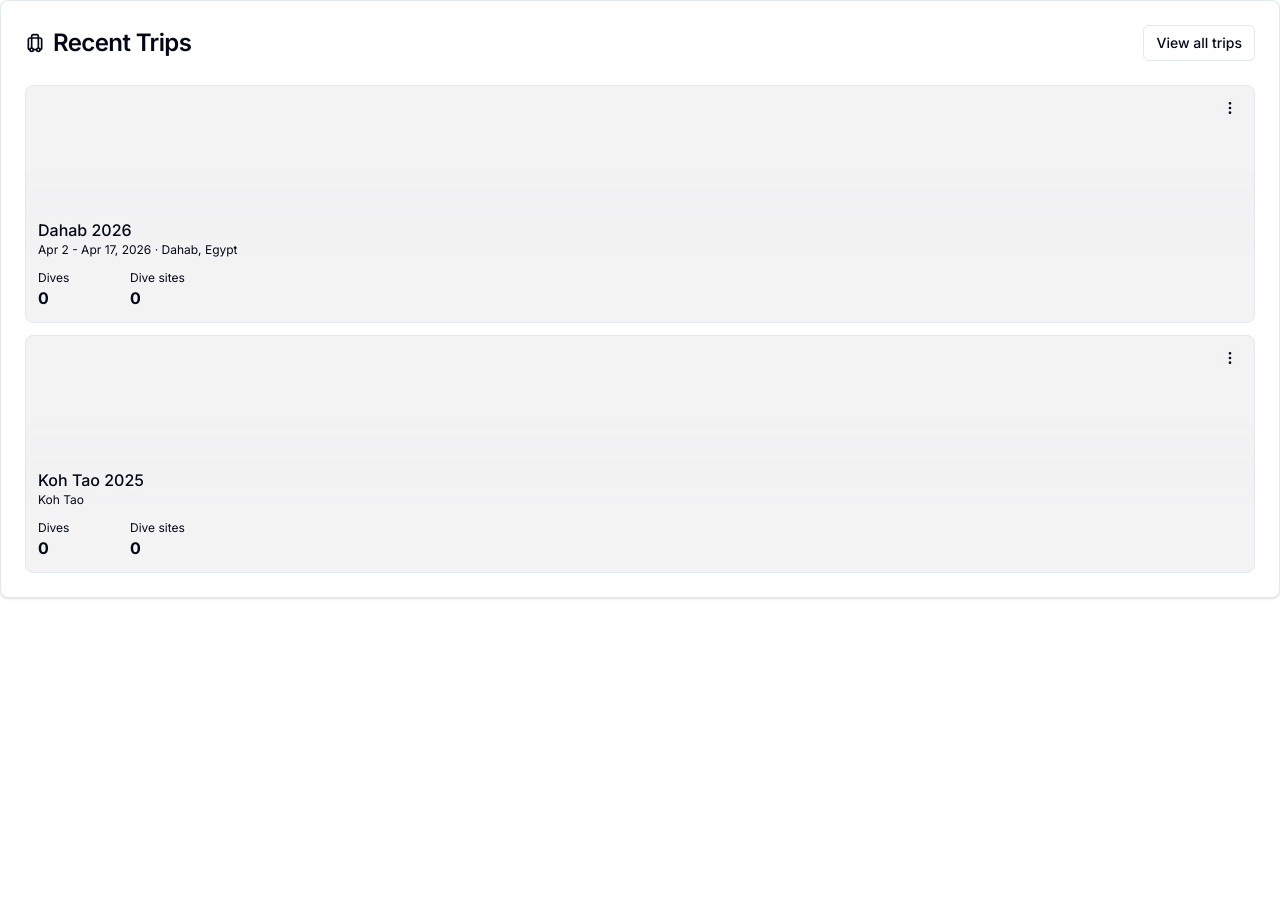
RecentTripsCard › reads the list again after a delete
Expected: the link "Dahab 2026" is shown, x1=38 y1=220 x2=132 y2=240
What coordinates should you click on to do the following:
click the button named "Actions for Koh Tao 2025"
I would click on:
 (1230, 358)
Its box is x1=1210 y1=340 x2=1250 y2=376.
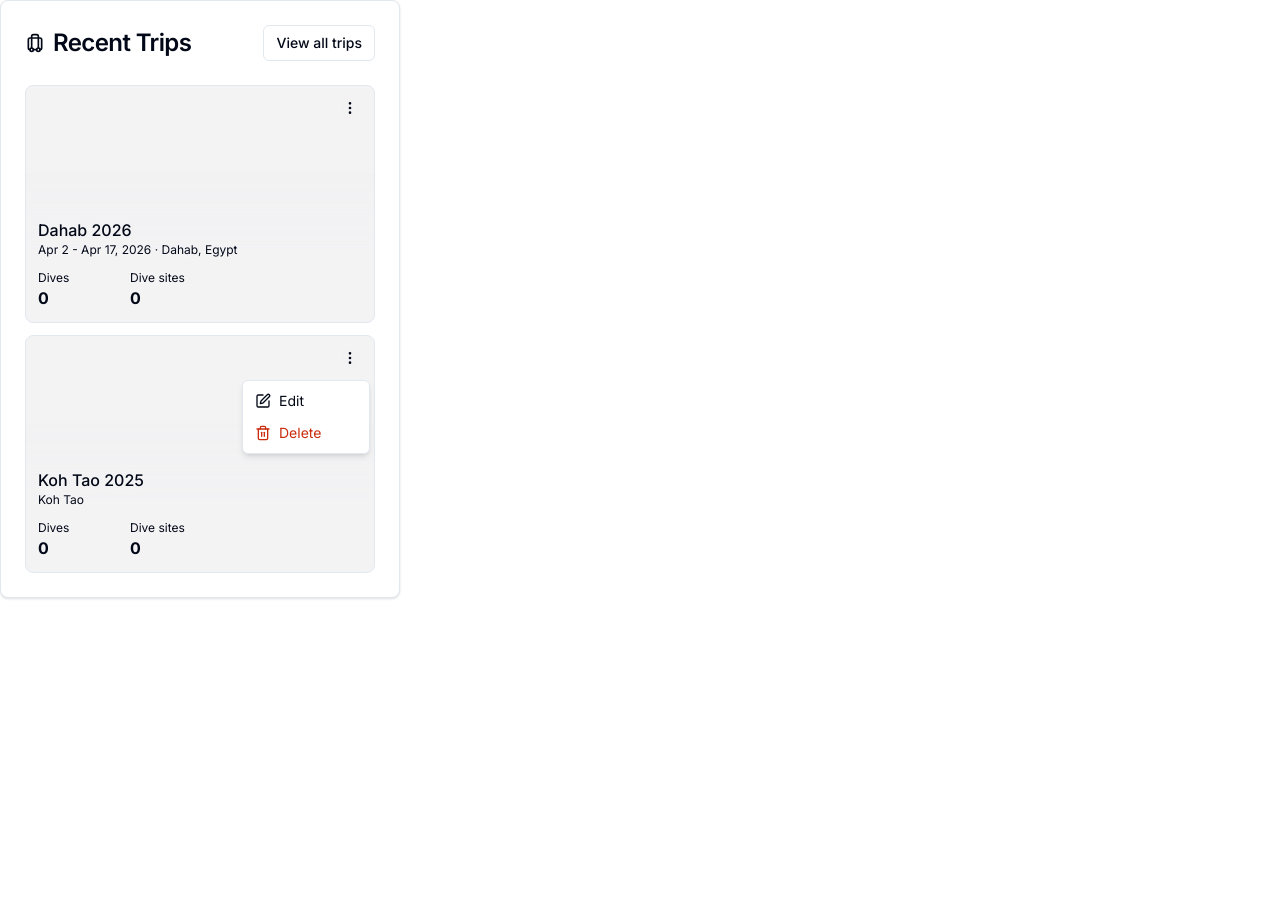
What coordinates should you click on to do the following:
click the menu item "Delete"
I would click on:
 (288, 432)
Its box is x1=255 y1=424 x2=321 y2=441.
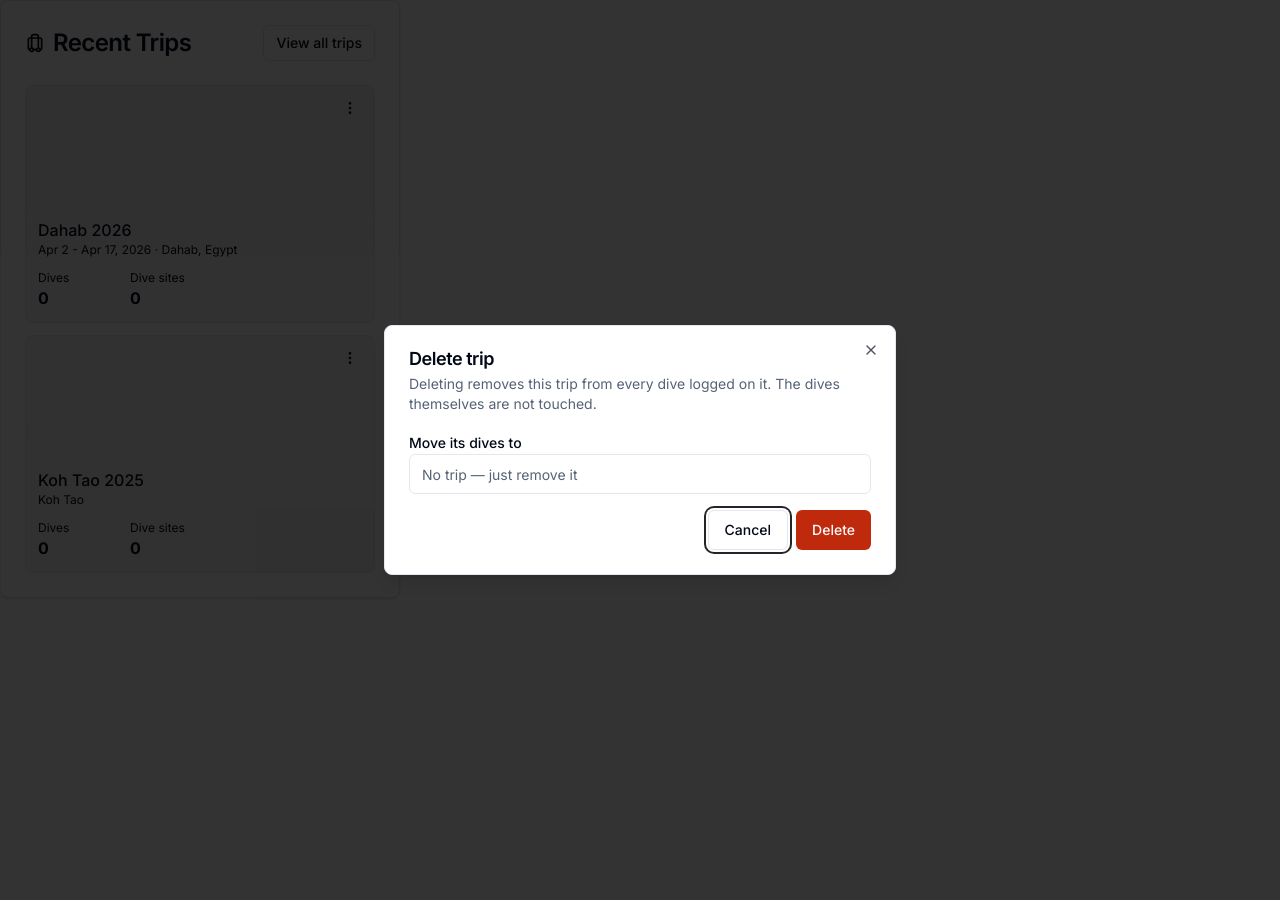
What coordinates should you click on to do the following:
click the button "Delete"
I would click on:
 (834, 530)
Its box is x1=796 y1=510 x2=871 y2=550.
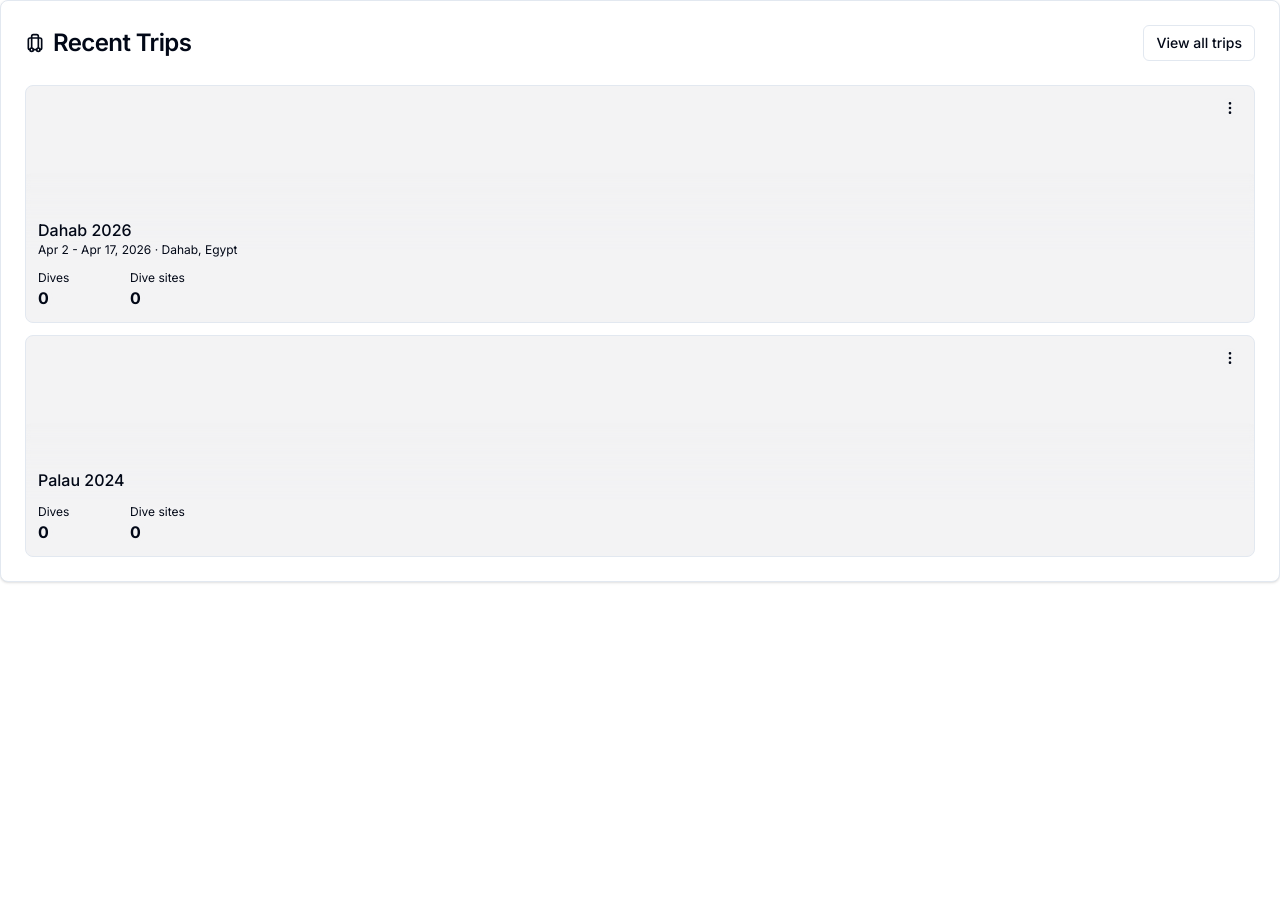
Now the link "Palau 2024" is shown, box x1=38 y1=470 x2=125 y2=490
Now the link "Koh Tao 2025" is gone
